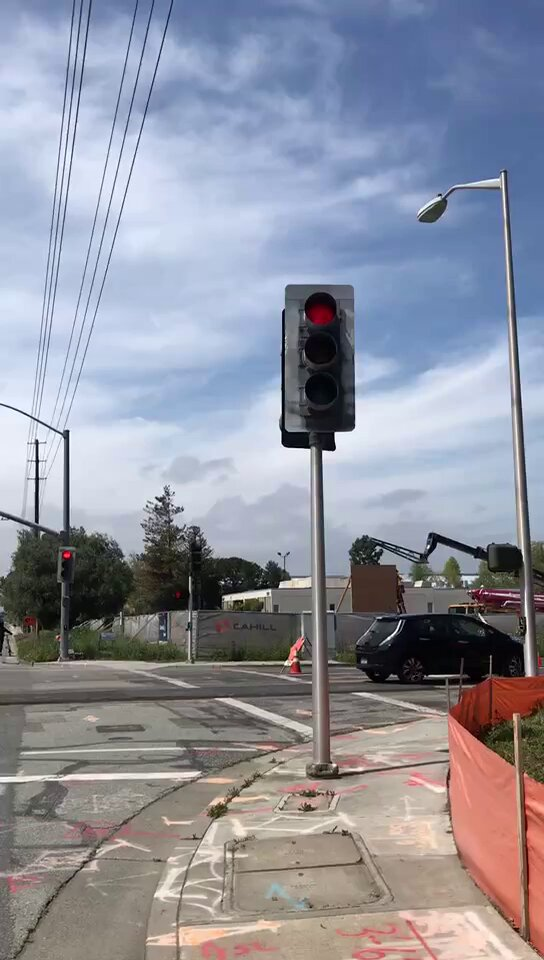red_light: (288, 286, 352, 427), (59, 547, 75, 586)
